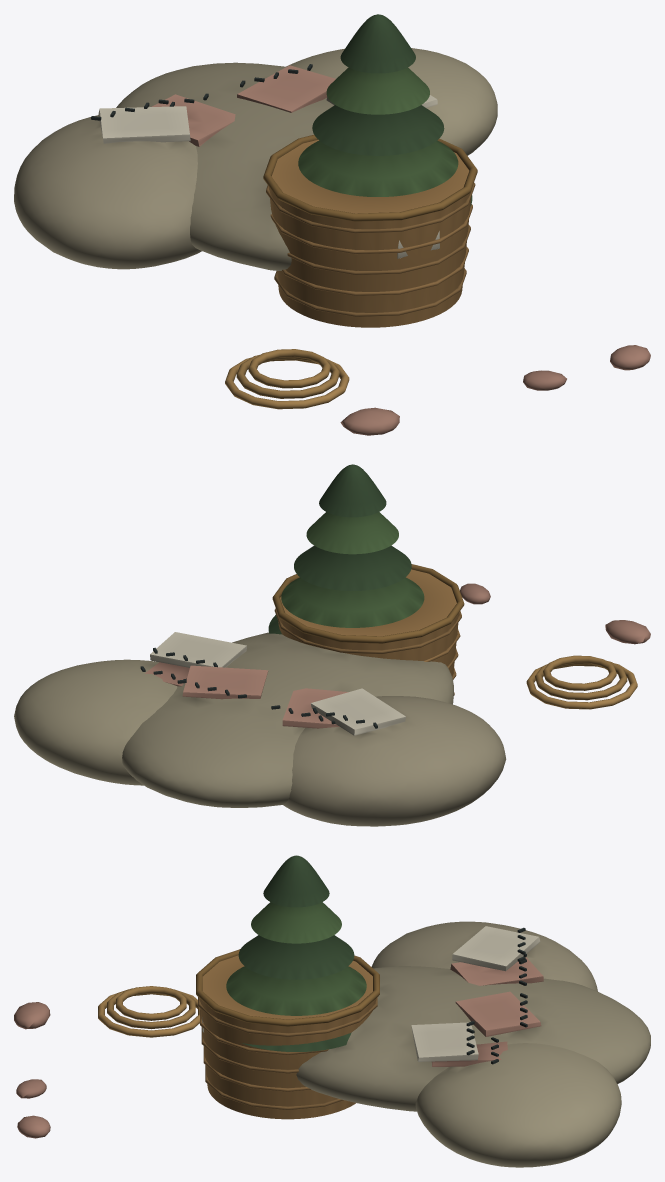
File: balloon_basket_wreck_c.glb
3 views of the same model, one above another, from view 1: azimuth 30°, elevation 25°; view 2: azimuth 150°, elevation 25°; view 3: azimuth 270°, elevation 25° (orthographic). The views are drawn at different scales.
Visible parts, largest first — view 1: Surface; view 2: Surface; view 3: Surface.
Boxes of the visible parts, box(x1,y1,x2,y2) form: Surface: box(14, 14, 650, 435); Surface: box(14, 464, 650, 826); Surface: box(14, 855, 650, 1167).
Bounding box in the file's own units: 5.76 × 3.1 × 7.46.
